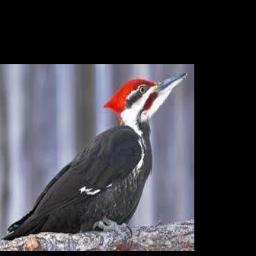Woodpecker: (2, 71, 188, 241)
